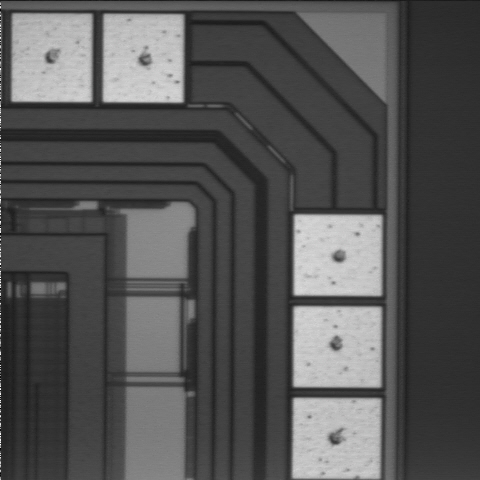pad: (103, 15, 183, 102), (294, 215, 381, 295), (294, 307, 381, 387), (293, 398, 380, 478), (12, 15, 91, 102)
